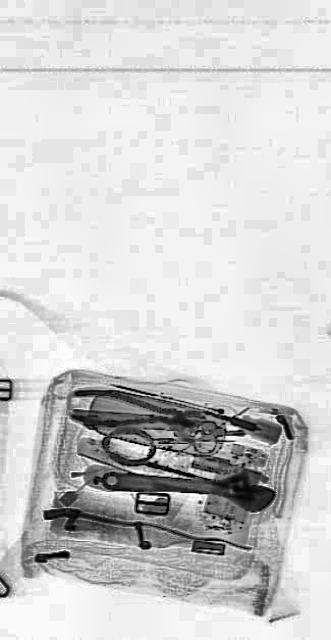Pliers: (69, 385, 205, 435)
Wrench: (101, 458, 275, 510)
